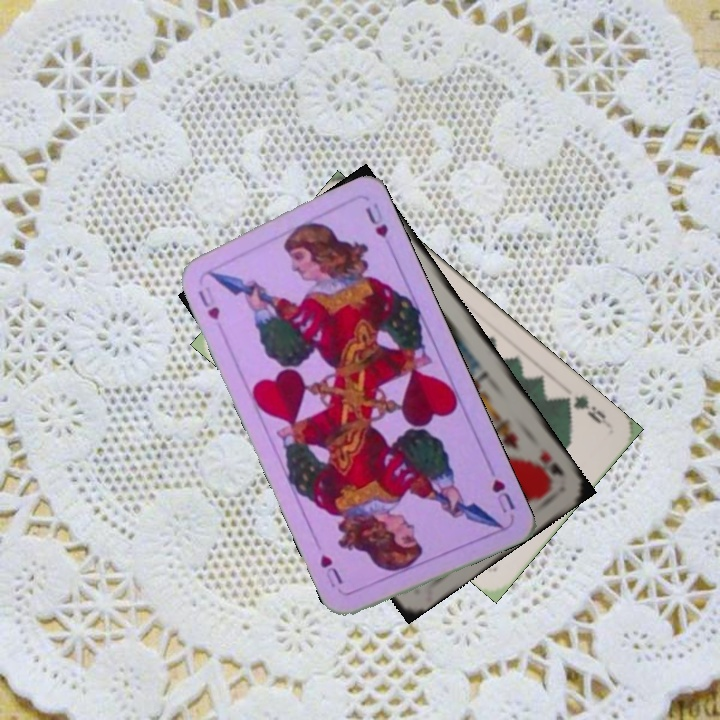G9: (557, 391, 613, 430)
HK: (535, 444, 567, 479)
HU: (487, 475, 518, 520), (194, 282, 223, 323)
